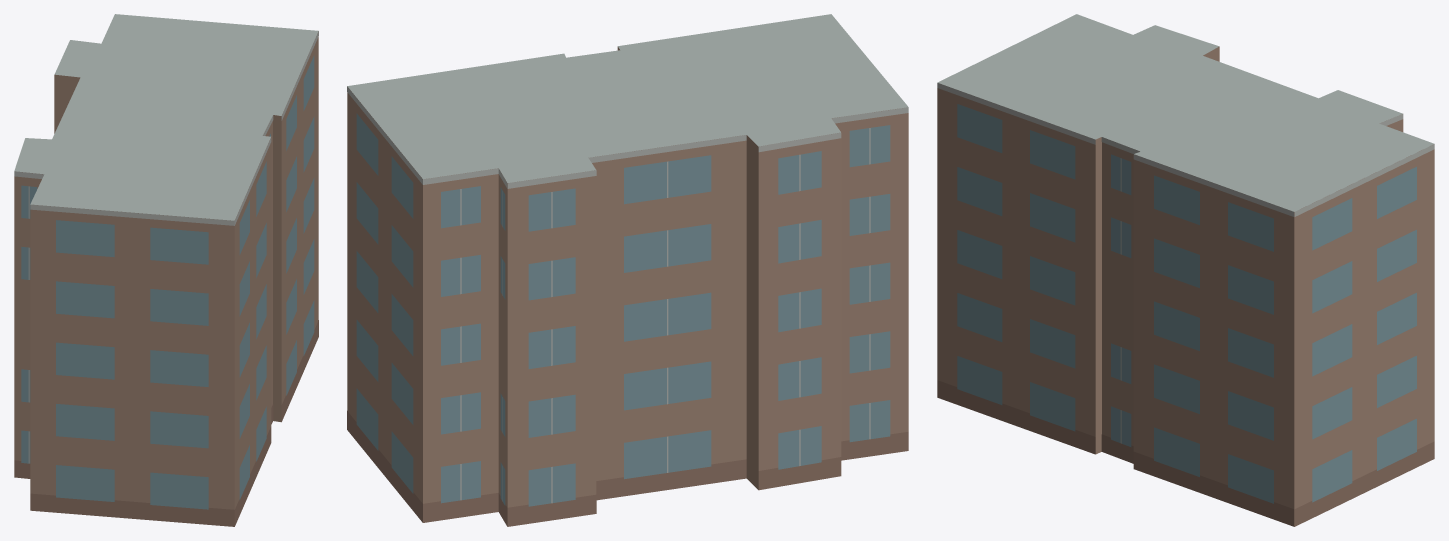
The model's file is survey-upis-32892091.glb.
The picture shows the model from 3 angles, left to right: view 1: azimuth 30°, elevation 25°; view 2: azimuth 150°, elevation 25°; view 3: azimuth 270°, elevation 25°; orthographic projection. The views are drawn at different scales.
Visible parts, largest first — view 1: survey-upis-32892091.tmp; view 2: survey-upis-32892091.tmp; view 3: survey-upis-32892091.tmp.
Boxes of the visible parts, x1,y1,x2,y2 form: survey-upis-32892091.tmp: (14,14,318,526); survey-upis-32892091.tmp: (347,14,908,526); survey-upis-32892091.tmp: (937,14,1434,526).
Bounding box in the file's own units: 19.55 × 14.5 × 20.76.
